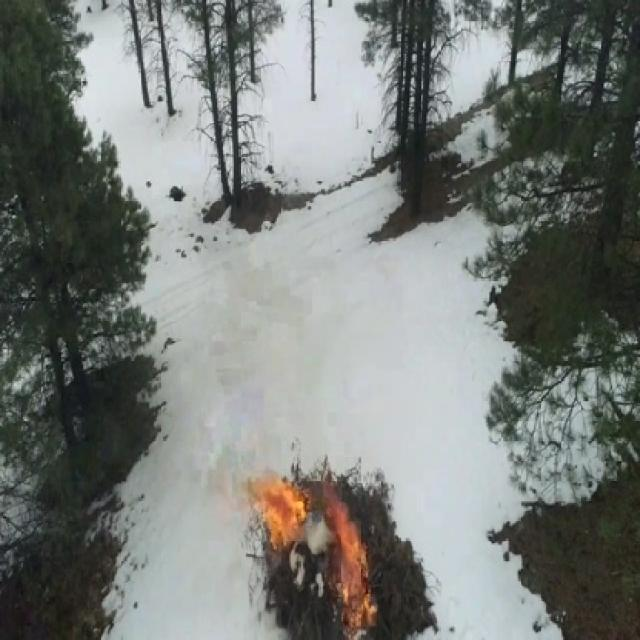Fire: (336, 504, 369, 583), (341, 580, 375, 640), (250, 484, 300, 507), (268, 505, 294, 549), (285, 494, 308, 525), (321, 478, 338, 516)
